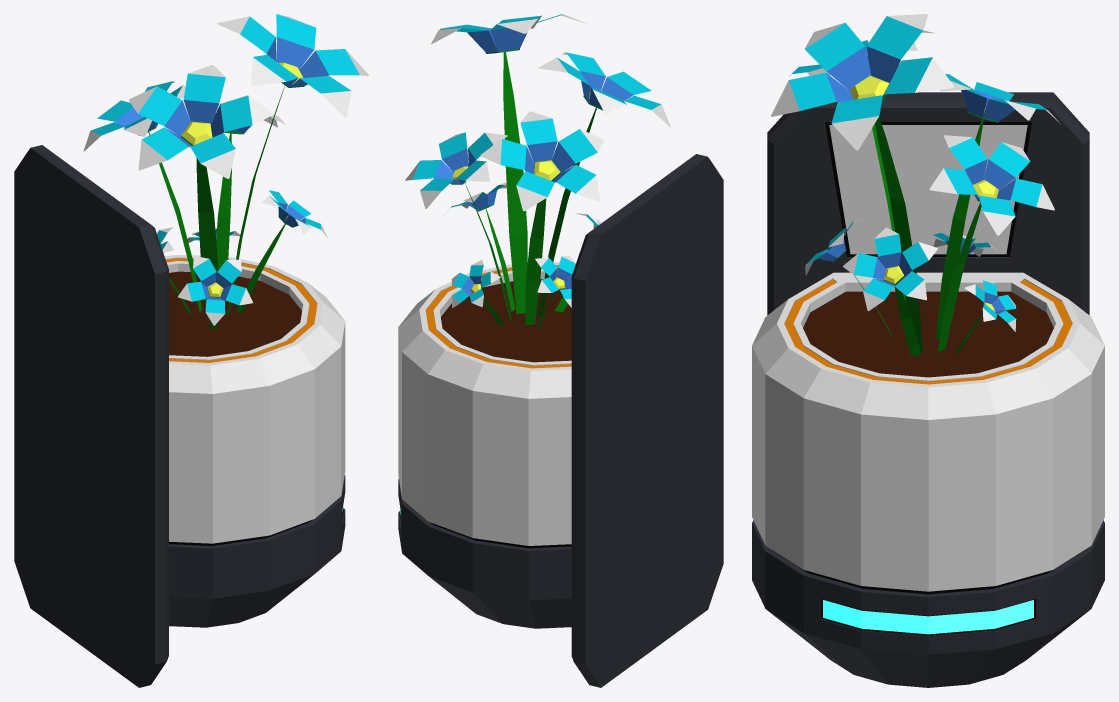
The model's file is SM_Botanical_WallPlanter_Cylinder.fbx.
3 renders of one model, left to right at view 1: azimuth 30°, elevation 25°; view 2: azimuth 150°, elevation 25°; view 3: azimuth 270°, elevation 25°, orthographic. The views are drawn at different scales.
Parts seen in each view (by area): view 1: SM_Botanical_WallPlanter_Cylinder; view 2: SM_Botanical_WallPlanter_Cylinder; view 3: SM_Botanical_WallPlanter_Cylinder.
Part boxes in pixels (box(x1,y1,x2,y2)): SM_Botanical_WallPlanter_Cylinder: box(14, 14, 369, 687); SM_Botanical_WallPlanter_Cylinder: box(398, 14, 723, 687); SM_Botanical_WallPlanter_Cylinder: box(752, 14, 1104, 687).
Size of the model in its own units: 39.48 by 88.31 by 41.49.
